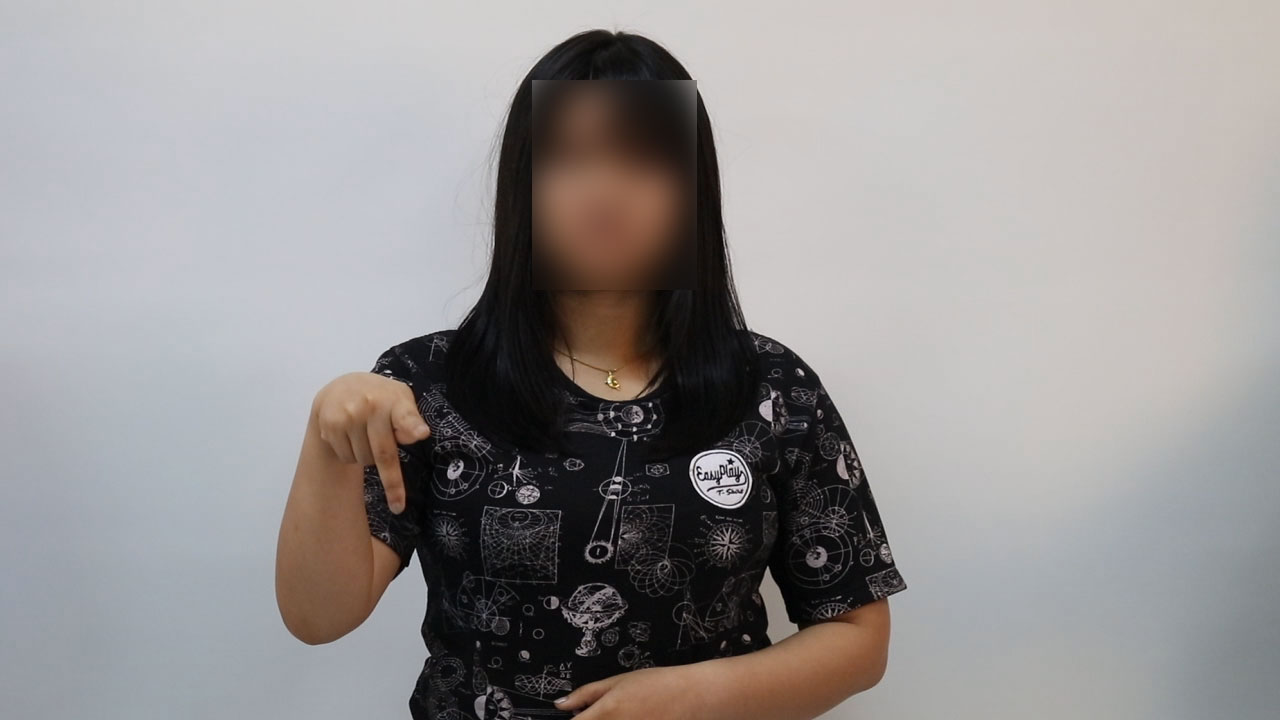por: (301, 360, 447, 528)
